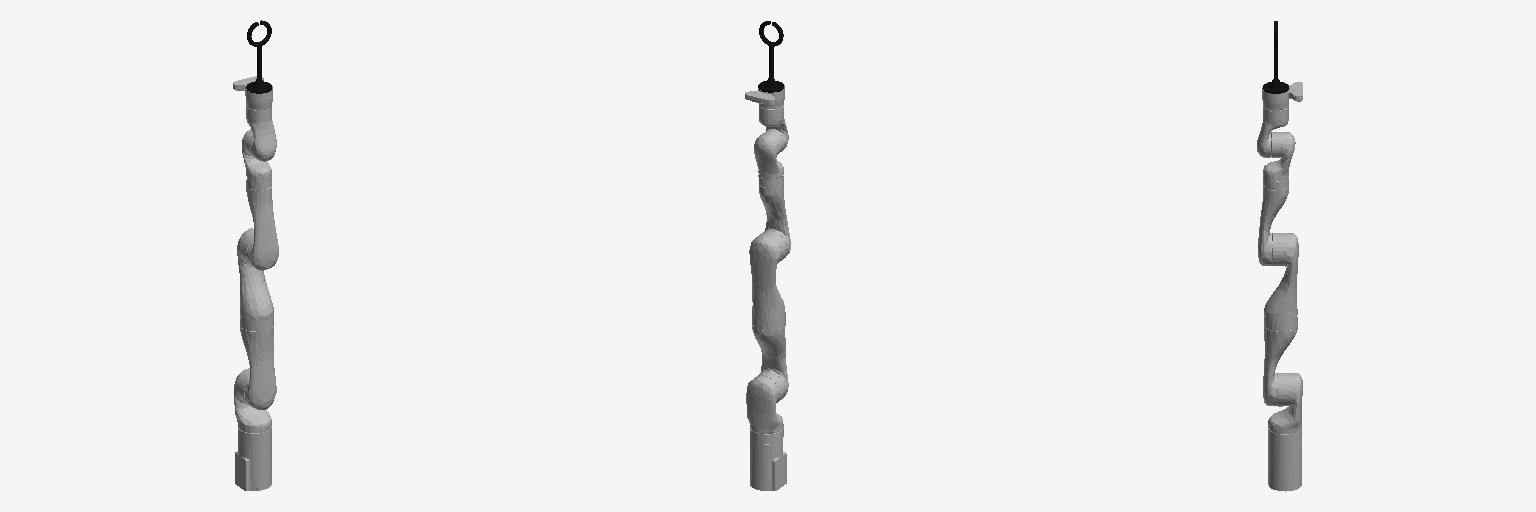
robot.urdf — gen3_loop_handle:
<?xml version="1.0" ?>
<!-- =================================================================================== -->
<!-- |    This document was autogenerated by xacro from gen3_loop_handle.xacro         | -->
<!-- |    EDITING THIS FILE BY HAND IS NOT RECOMMENDED                                 | -->
<!-- =================================================================================== -->
<robot name="gen3_loop_handle">
  <!-- Run the macros -->
  <link name="base_link">
    <inertial>
      <origin rpy="0 0 0" xyz="-0.000648 -0.000166 0.084487"/>
      <mass value="1.697"/>
      <inertia ixx="0.004622" ixy="9E-06" ixz="6E-05" iyy="0.004495" iyz="9E-06" izz="0.002079"/>
    </inertial>
    <visual>
      <origin rpy="0 0 0" xyz="0 0 0"/>
      <geometry>
        <mesh filename="package://kortex_description/arms/gen3/7dof/meshes/base_link.STL"/>
      </geometry>
      <material name="">
        <color rgba="0.75294 0.75294 0.75294 1"/>
      </material>
    </visual>
    <collision>
      <origin rpy="0 0 0" xyz="0 0 0"/>
      <geometry>
        <mesh filename="package://kortex_description/arms/gen3/7dof/meshes/base_link.STL"/>
      </geometry>
    </collision>
  </link>
  <link name="shoulder_link">
    <inertial>
      <origin rpy="0 0 0" xyz="-2.3E-05 -0.010364 -0.07336"/>
      <mass value="1.3773"/>
      <inertia ixx="0.00457" ixy="1E-06" ixz="2E-06" iyy="0.004831" iyz="0.000448" izz="0.001409"/>
    </inertial>
    <visual>
      <origin rpy="0 0 0" xyz="0 0 0"/>
      <geometry>
        <mesh filename="package://kortex_description/arms/gen3/7dof/meshes/shoulder_link.STL"/>
      </geometry>
      <material name="">
        <color rgba="0.75294 0.75294 0.75294 1"/>
      </material>
    </visual>
    <collision>
      <origin rpy="0 0 0" xyz="0 0 0"/>
      <geometry>
        <mesh filename="package://kortex_description/arms/gen3/7dof/meshes/shoulder_link.STL"/>
      </geometry>
    </collision>
  </link>
  <joint name="joint_1" type="continuous">
    <origin rpy="3.1416 2.7629E-18 -4.9305E-36" xyz="0 0 0.15643"/>
    <parent link="base_link"/>
    <child link="shoulder_link"/>
    <axis xyz="0 0 1"/>
    <limit effort="39" velocity="1.3963"/>
  </joint>
  <link name="half_arm_1_link">
    <inertial>
      <origin rpy="0 0 0" xyz="-4.4E-05 -0.09958 -0.013278"/>
      <mass value="1.1636"/>
      <inertia ixx="0.011088" ixy="5E-06" ixz="0" iyy="0.001072" iyz="-0.000691" izz="0.011255"/>
    </inertial>
    <visual>
      <origin rpy="0 0 0" xyz="0 0 0"/>
      <geometry>
        <mesh filename="package://kortex_description/arms/gen3/7dof/meshes/half_arm_1_link.STL"/>
      </geometry>
      <material name="">
        <color rgba="0.75294 0.75294 0.75294 1"/>
      </material>
    </visual>
    <collision>
      <origin rpy="0 0 0" xyz="0 0 0"/>
      <geometry>
        <mesh filename="package://kortex_description/arms/gen3/7dof/meshes/half_arm_1_link.STL"/>
      </geometry>
    </collision>
  </link>
  <joint name="joint_2" type="revolute">
    <origin rpy="1.5708 2.1343E-17 -1.1102E-16" xyz="0 0.005375 -0.12838"/>
    <parent link="shoulder_link"/>
    <child link="half_arm_1_link"/>
    <axis xyz="0 0 1"/>
    <limit effort="39" lower="-2.41" upper="2.41" velocity="1.3963"/>
  </joint>
  <link name="half_arm_2_link">
    <inertial>
      <origin rpy="0 0 0" xyz="-4.4E-05 -0.006641 -0.117892"/>
      <mass value="1.1636"/>
      <inertia ixx="0.010932" ixy="0" ixz="-7E-06" iyy="0.011127" iyz="0.000606" izz="0.001043"/>
    </inertial>
    <visual>
      <origin rpy="0 0 0" xyz="0 0 0"/>
      <geometry>
        <mesh filename="package://kortex_description/arms/gen3/7dof/meshes/half_arm_2_link.STL"/>
      </geometry>
      <material name="">
        <color rgba="0.75294 0.75294 0.75294 1"/>
      </material>
    </visual>
    <collision>
      <origin rpy="0 0 0" xyz="0 0 0"/>
      <geometry>
        <mesh filename="package://kortex_description/arms/gen3/7dof/meshes/half_arm_2_link.STL"/>
      </geometry>
    </collision>
  </link>
  <joint name="joint_3" type="continuous">
    <origin rpy="-1.5708 1.2326E-32 -2.9122E-16" xyz="0 -0.21038 -0.006375"/>
    <parent link="half_arm_1_link"/>
    <child link="half_arm_2_link"/>
    <axis xyz="0 0 1"/>
    <limit effort="39" velocity="1.3963"/>
  </joint>
  <link name="forearm_link">
    <inertial>
      <origin rpy="0 0 0" xyz="-1.8E-05 -0.075478 -0.015006"/>
      <mass value="0.9302"/>
      <inertia ixx="0.008147" ixy="-1E-06" ixz="0" iyy="0.000631" iyz="-0.0005" izz="0.008316"/>
    </inertial>
    <visual>
      <origin rpy="0 0 0" xyz="0 0 0"/>
      <geometry>
        <mesh filename="package://kortex_description/arms/gen3/7dof/meshes/forearm_link.STL"/>
      </geometry>
      <material name="">
        <color rgba="0.75294 0.75294 0.75294 1"/>
      </material>
    </visual>
    <collision>
      <origin rpy="0 0 0" xyz="0 0 0"/>
      <geometry>
        <mesh filename="package://kortex_description/arms/gen3/7dof/meshes/forearm_link.STL"/>
      </geometry>
    </collision>
  </link>
  <joint name="joint_4" type="revolute">
    <origin rpy="1.5708 -6.6954E-17 -1.6653E-16" xyz="0 0.006375 -0.21038"/>
    <parent link="half_arm_2_link"/>
    <child link="forearm_link"/>
    <axis xyz="0 0 1"/>
    <limit effort="39" lower="-2.66" upper="2.66" velocity="1.3963"/>
  </joint>
  <link name="spherical_wrist_1_link">
    <inertial>
      <origin rpy="0 0 0" xyz="1E-06 -0.009432 -0.063883"/>
      <mass value="0.6781"/>
      <inertia ixx="0.001596" ixy="0" ixz="0" iyy="0.001607" iyz="0.000256" izz="0.000399"/>
    </inertial>
    <visual>
      <origin rpy="0 0 0" xyz="0 0 0"/>
      <geometry>
        <mesh filename="package://kortex_description/arms/gen3/7dof/meshes/spherical_wrist_1_link.STL"/>
      </geometry>
      <material name="">
        <color rgba="0.75294 0.75294 0.75294 1"/>
      </material>
    </visual>
    <collision>
      <origin rpy="0 0 0" xyz="0 0 0"/>
      <geometry>
        <mesh filename="package://kortex_description/arms/gen3/7dof/meshes/spherical_wrist_1_link.STL"/>
      </geometry>
    </collision>
  </link>
  <joint name="joint_5" type="continuous">
    <origin rpy="-1.5708 2.2204E-16 -6.373E-17" xyz="0 -0.20843 -0.006375"/>
    <parent link="forearm_link"/>
    <child link="spherical_wrist_1_link"/>
    <axis xyz="0 0 1"/>
    <limit effort="9" velocity="1.2218"/>
  </joint>
  <link name="spherical_wrist_2_link">
    <inertial>
      <origin rpy="0 0 0" xyz="1E-06 -0.045483 -0.00965"/>
      <mass value="0.6781"/>
      <inertia ixx="0.001641" ixy="0" ixz="0" iyy="0.00041" iyz="-0.000278" izz="0.001641"/>
    </inertial>
    <visual>
      <origin rpy="0 0 0" xyz="0 0 0"/>
      <geometry>
        <mesh filename="package://kortex_description/arms/gen3/7dof/meshes/spherical_wrist_2_link.STL"/>
      </geometry>
      <material name="">
        <color rgba="0.75294 0.75294 0.75294 1"/>
      </material>
    </visual>
    <collision>
      <origin rpy="0 0 0" xyz="0 0 0"/>
      <geometry>
        <mesh filename="package://kortex_description/arms/gen3/7dof/meshes/spherical_wrist_2_link.STL"/>
      </geometry>
    </collision>
  </link>
  <joint name="joint_6" type="revolute">
    <origin rpy="1.5708 9.2076E-28 -8.2157E-15" xyz="0 0.00017505 -0.10593"/>
    <parent link="spherical_wrist_1_link"/>
    <child link="spherical_wrist_2_link"/>
    <axis xyz="0 0 1"/>
    <limit effort="9" lower="-2.23" upper="2.23" velocity="1.2218"/>
  </joint>
  <link name="bracelet_link">
    <inertial>
      <origin rpy="0 0 0" xyz="0.000281 0.011402 -0.029798"/>
      <mass value="0.5"/>
      <inertia ixx="0.000587" ixy="3E-06" ixz="3E-06" iyy="0.000369" iyz="-0.000118" izz="0.000609"/>
    </inertial>
    <visual>
      <origin rpy="0 0 0" xyz="0 0 0"/>
      <geometry>
        <mesh filename="package://kortex_description/arms/gen3/7dof/meshes/bracelet_with_vision_link.STL"/>
      </geometry>
      <material name="">
        <color rgba="0.75294 0.75294 0.75294 1"/>
      </material>
    </visual>
    <collision>
      <origin rpy="0 0 0" xyz="0 0 0"/>
      <geometry>
        <mesh filename="package://kortex_description/arms/gen3/7dof/meshes/bracelet_with_vision_link.STL"/>
      </geometry>
    </collision>
  </link>
  <joint name="joint_7" type="continuous">
    <origin rpy="-1.5708 -5.5511E-17 9.6396E-17" xyz="0 -0.10593 -0.00017505"/>
    <parent link="spherical_wrist_2_link"/>
    <child link="bracelet_link"/>
    <axis xyz="0 0 1"/>
    <limit effort="9" velocity="1.2218"/>
  </joint>
  <link name="end_effector_link"/>
  <joint name="end_effector" type="fixed">
    <origin rpy="3.14159265358979 1.09937075168372E-32 0" xyz="0 0 -0.0615250000000001"/>
    <parent link="bracelet_link"/>
    <child link="end_effector_link"/>
    <axis xyz="0 0 0"/>
  </joint>
  <link name="camera_link"/>
  <joint name="camera_module" type="fixed">
    <origin rpy="3.14159265358979 3.14159265358979 0" xyz="0 0.05639 -0.00305"/>
    <parent link="end_effector_link"/>
    <child link="camera_link"/>
  </joint>
  <link name="camera_depth_frame"/>
  <joint name="depth_module" type="fixed">
    <origin rpy="3.14159265358979 3.14159265358979 0" xyz="0.0275 0.066 -0.00305"/>
    <parent link="end_effector_link"/>
    <child link="camera_depth_frame"/>
  </joint>
  <link name="camera_color_frame"/>
  <joint name="color_module" type="fixed">
    <origin rpy="3.14159265358979 3.14159265358979 0" xyz="0 0.05639 -0.00305"/>
    <parent link="end_effector_link"/>
    <child link="camera_color_frame"/>
  </joint>
  <!-- Tool frame used by the arm -->
  <link name="tool_frame"/>
  <joint name="tool_frame_joint" type="fixed">
    <origin rpy="0 0 0" xyz="0 0 0.164"/>
    <parent link="end_effector_link"/>
    <child link="tool_frame"/>
    <axis xyz="0 0 0"/>
  </joint>
  <!-- This joint was added by Kinova -->
  <joint name="gripper_base_joint" type="fixed">
    <parent link="end_effector_link"/>
    <child link="long_handle_base_link"/>
    <origin rpy="0.0 0.0 0" xyz="0.0 0.0 0.0"/>
  </joint>
  <link name="long_handle_base_link">
    <inertial>
      <origin rpy="0 0 0" xyz="8.625E-08 -4.6583E-06 0"/>
      <mass value="0.22652"/>
      <inertia ixx="0.00020005" ixy="-4.2442E-10" ixz="-2.9069E-10" iyy="0.00017832" iyz="-3.4402E-08" izz="0.00013478"/>
    </inertial>
    <visual>
      <origin rpy="0 0 0" xyz="0 0 0"/>
      <geometry>
        <!-- The DAE file doesn't show well in Gazebo so we're using the STL instead -->
        <!-- <mesh filename="package://kortex_description/grippers/robotiq_2f_85/meshes/visual/robotiq_arg2f_85_base_link.dae" scale="0.001 0.001 0.001"/> -->
        <!-- <mesh scale="0.001 0.001 0.001" filename="package://kortex_description/grippers/loop_handle/meshes/visual/long_loop_handle.stl" /> -->
        <mesh filename="package://kortex_description/grippers/loop_handle/meshes/visual/short_loop_handle.obj"/>
      </geometry>
      <material name="">
        <color rgba="0.1 0.1 0.1 1"/>
      </material>
    </visual>
    <collision>
      <origin rpy="0 0 0" xyz="0 0 0"/>
      <geometry>
        <mesh filename="package://kortex_description/grippers/loop_handle/meshes/visual/short_loop_handle.obj"/>
        <!-- <mesh scale="0.001 0.001 0.001" filename="package://kortex_description/grippers/loop_handle/meshes/collision/long_loop_handle.stl" /> -->
      </geometry>
    </collision>
  </link>
  <gazebo reference="long_handle_base_link">
    <material>Gazebo/Black</material>
  </gazebo>
</robot>

--- What the picture shows (computed from the rendered views, not written in the file) ---
Views: 3 orthographic renders of the robot side by side, from view 1: azimuth 30°, elevation 25°; view 2: azimuth 150°, elevation 25°; view 3: azimuth 270°, elevation 25°.
Model gen3_loop_handle with 14 links and 13 joints (3 revolute, 4 continuous, 6 fixed), rooted at base_link, posed all joints at 0.
Links seen in each view (by area): view 1: half_arm_1_link, forearm_link, base_link, half_arm_2_link, shoulder_link, spherical_wrist_2_link, spherical_wrist_1_link, long_handle_base_link, bracelet_link; view 2: half_arm_2_link, base_link, shoulder_link, half_arm_1_link, forearm_link, spherical_wrist_1_link, long_handle_base_link, spherical_wrist_2_link, bracelet_link; view 3: half_arm_2_link, base_link, half_arm_1_link, shoulder_link, forearm_link, spherical_wrist_1_link, spherical_wrist_2_link, bracelet_link.
Link boxes in pixels (x1=…): half_arm_1_link: x1=240, y1=316, x2=276, y2=409; forearm_link: x1=246, y1=178, x2=278, y2=270; base_link: x1=235, y1=426, x2=271, y2=490; half_arm_2_link: x1=237, y1=228, x2=273, y2=322; shoulder_link: x1=234, y1=368, x2=271, y2=432; spherical_wrist_2_link: x1=246, y1=105, x2=276, y2=161; spherical_wrist_1_link: x1=242, y1=129, x2=271, y2=184; long_handle_base_link: x1=246, y1=20, x2=271, y2=93; bracelet_link: x1=233, y1=76, x2=272, y2=110; half_arm_2_link: x1=749, y1=231, x2=786, y2=320; base_link: x1=750, y1=427, x2=786, y2=490; shoulder_link: x1=746, y1=372, x2=784, y2=433; half_arm_1_link: x1=752, y1=314, x2=788, y2=399; forearm_link: x1=758, y1=175, x2=790, y2=257; spherical_wrist_1_link: x1=754, y1=130, x2=783, y2=181; long_handle_base_link: x1=758, y1=21, x2=783, y2=92; spherical_wrist_2_link: x1=759, y1=105, x2=788, y2=149; bracelet_link: x1=745, y1=85, x2=784, y2=108; half_arm_2_link: x1=1264, y1=233, x2=1298, y2=321; base_link: x1=1268, y1=428, x2=1301, y2=491; half_arm_1_link: x1=1263, y1=315, x2=1297, y2=405; shoulder_link: x1=1268, y1=373, x2=1302, y2=433; forearm_link: x1=1258, y1=176, x2=1288, y2=265; spherical_wrist_1_link: x1=1263, y1=132, x2=1295, y2=180; spherical_wrist_2_link: x1=1257, y1=106, x2=1288, y2=157; bracelet_link: x1=1262, y1=82, x2=1302, y2=110.
Size in the robot's own frame: 0.0929 by 0.1275 by 1.39 metres.
Meshes: 9 distinct files referenced, 9 mesh visuals loaded (8 binary STL, 1 OBJ).